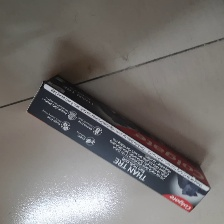Colgate Than: (25, 74, 211, 211)
